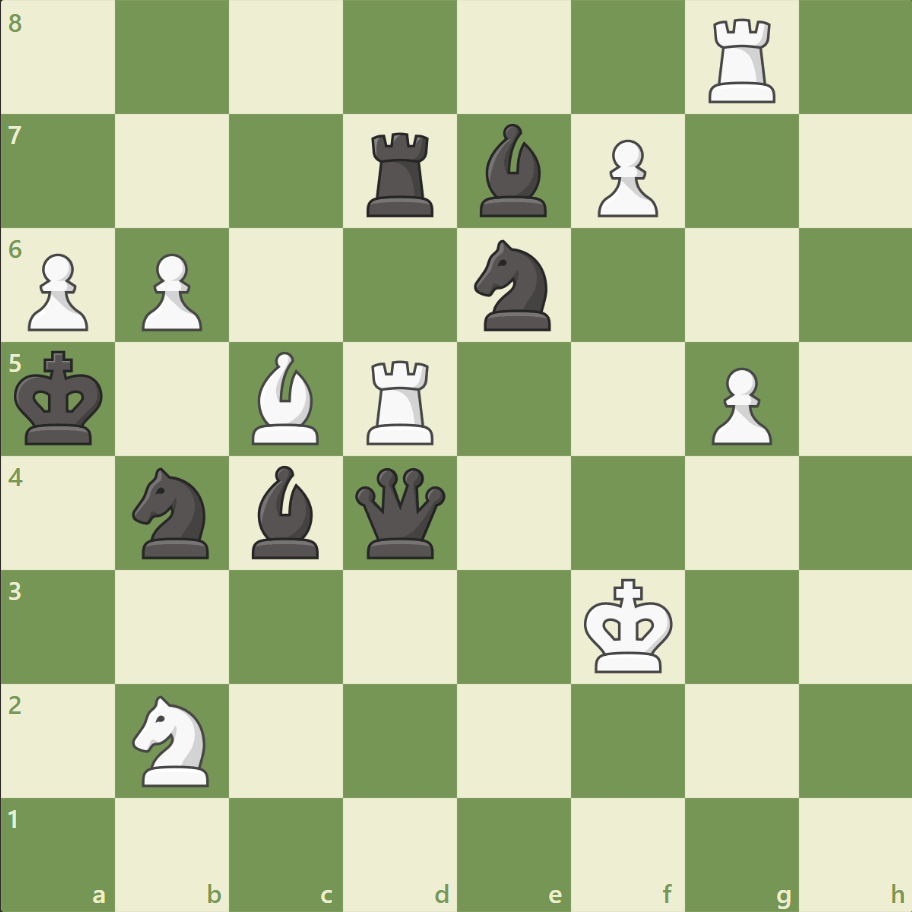B: (244, 347, 328, 449)
K: (579, 571, 679, 679)
N: (124, 688, 222, 791)
P: (20, 246, 95, 337), (133, 246, 208, 337), (701, 359, 776, 450), (588, 132, 662, 223)
R: (700, 12, 783, 109), (360, 352, 442, 449)
b: (244, 460, 328, 563), (471, 120, 555, 222)
k: (11, 344, 111, 452)
n: (124, 461, 222, 564), (465, 234, 562, 337)
q: (351, 463, 450, 562)
r: (360, 125, 442, 222)
